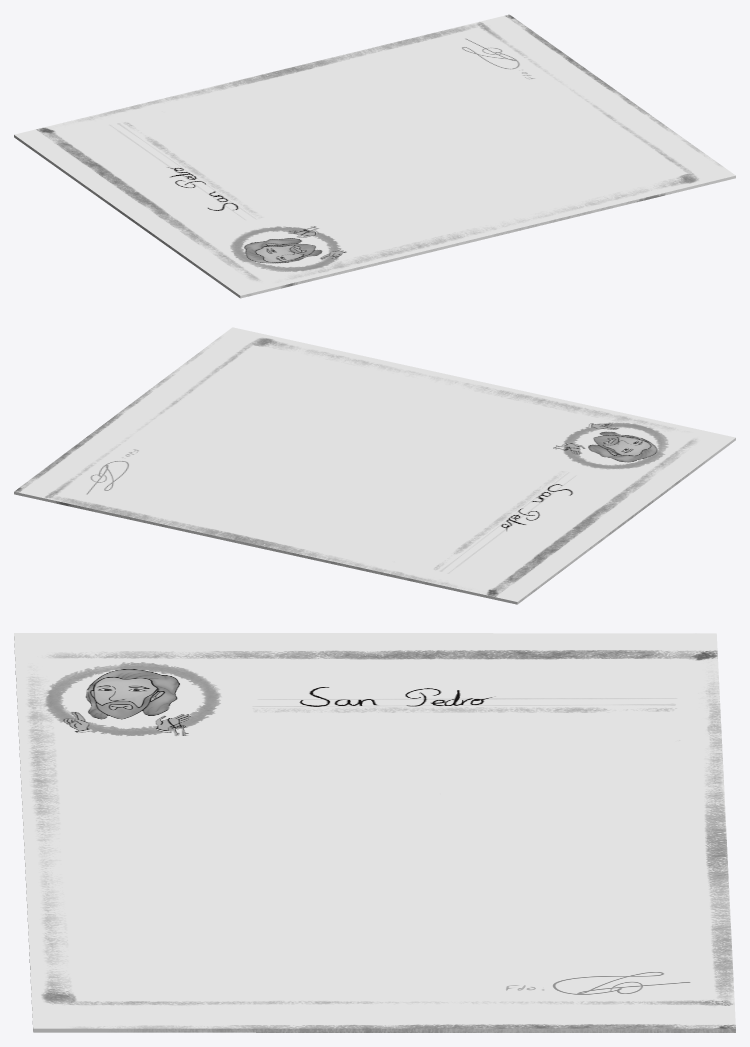
The model's file is Pedro_papel.fbx.
3 renders of one model, top to bottom at view 1: azimuth 30°, elevation 25°; view 2: azimuth 150°, elevation 25°; view 3: azimuth 270°, elevation 25°, orthographic. The views are drawn at different scales.
Visible parts, largest first — view 1: paper.004; view 2: paper.004; view 3: paper.004.
Part boxes in pixels (x1,y1,x2,y2): paper.004: [14, 14, 735, 298]; paper.004: [14, 327, 735, 604]; paper.004: [14, 633, 735, 1032].
Size of the model in its own units: 79.36 by 1.64 by 62.51.
Materials: 1 (1 with a texture image).
